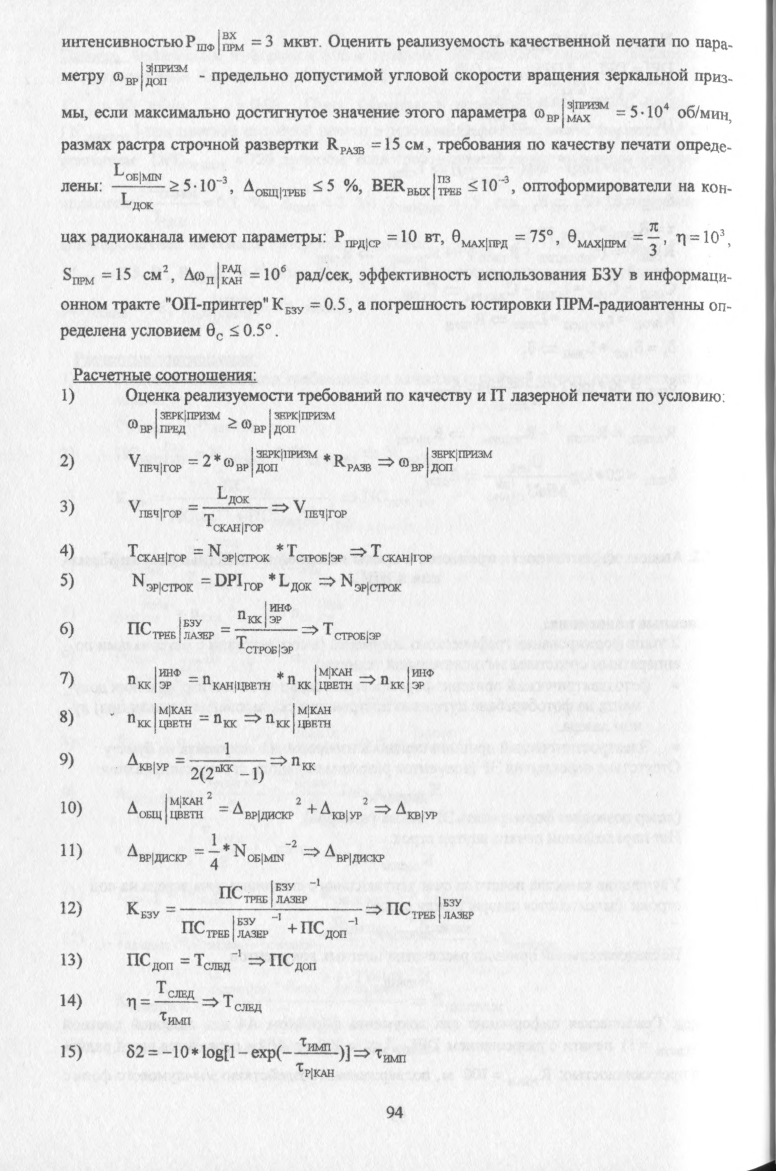DPI.гор: (213, 570, 265, 594)
K.бзу: (124, 898, 161, 922)
L.док: (214, 483, 251, 505), (278, 571, 313, 593)
N.эр.строке: (131, 571, 194, 595), (207, 542, 270, 563)
R.разв: (333, 452, 373, 475)
T.скан.гор: (126, 541, 188, 565), (202, 512, 266, 535)
T.строб.эр: (284, 539, 346, 565), (236, 635, 296, 655)
V.печ.гор: (126, 496, 185, 521), (128, 451, 184, 476)
group: (122, 877, 360, 942), (124, 603, 298, 657), (126, 482, 269, 533), (125, 450, 376, 475), (129, 539, 346, 565), (128, 571, 314, 594)
n.кк.инф.эр: (234, 602, 294, 627), (126, 667, 183, 693)
ω.вр.зерк.призм.доп: (223, 448, 318, 474)
ПС.доп: (298, 917, 349, 940), (124, 950, 175, 972)
ПС.треб.бзу.лазер: (125, 616, 215, 643), (181, 915, 270, 941), (218, 880, 310, 905)
